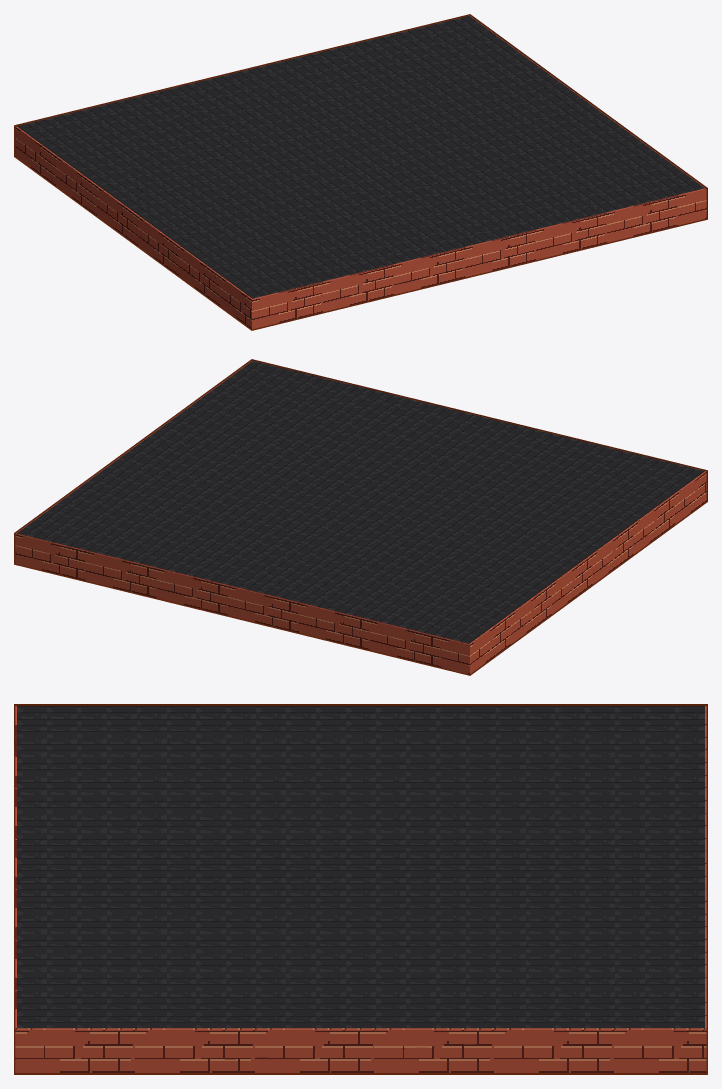
File: Block_5.glb
3 views of the same model, one above another, from view 1: azimuth 30°, elevation 25°; view 2: azimuth 150°, elevation 25°; view 3: azimuth 270°, elevation 25° (orthographic). The views are drawn at different scales.
Parts seen in each view (by area): view 1: Block_5; view 2: Block_5; view 3: Block_5.
Part boxes in pixels (x1,y1,x2,y2): Block_5: [14, 14, 707, 330]; Block_5: [14, 359, 707, 675]; Block_5: [14, 704, 707, 1074].
Bounding box in the file's own units: 25.7 × 1.7 × 23.2.
3 materials, 2 textured.
